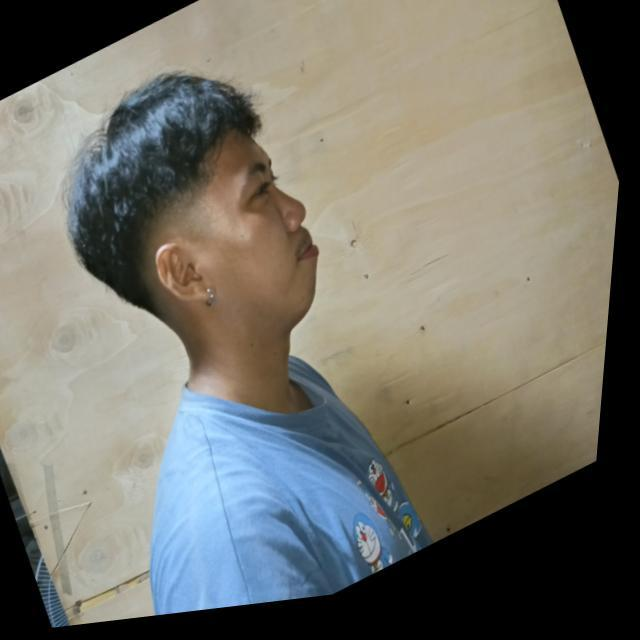Nonhelmet: (55, 63, 331, 350)
